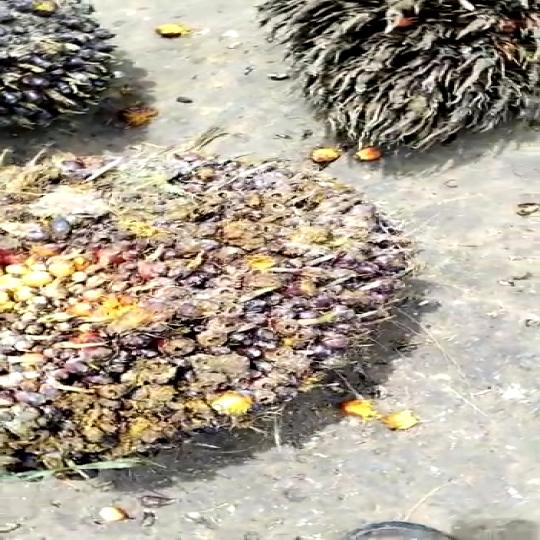kurang masak: (0, 165, 393, 488)
